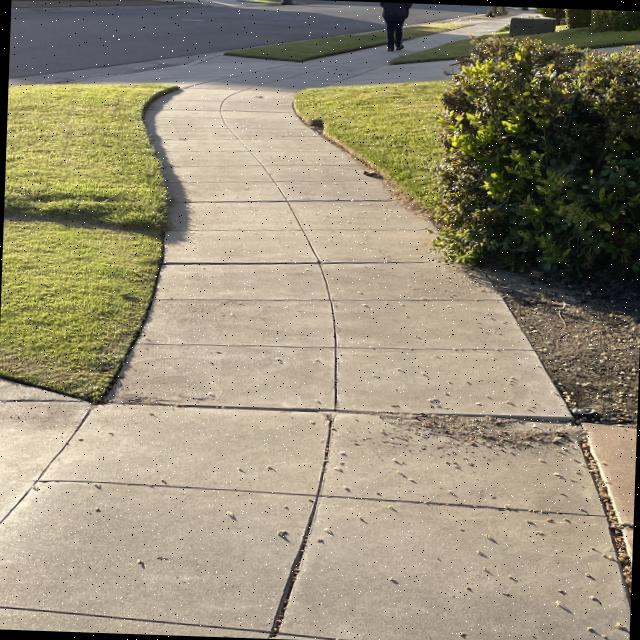walkway: (8, 510, 629, 640), (75, 403, 606, 542), (123, 341, 554, 445), (154, 300, 522, 374), (154, 261, 496, 338), (156, 224, 465, 280), (162, 179, 428, 243), (163, 144, 369, 196), (152, 118, 344, 156), (165, 95, 305, 132)
